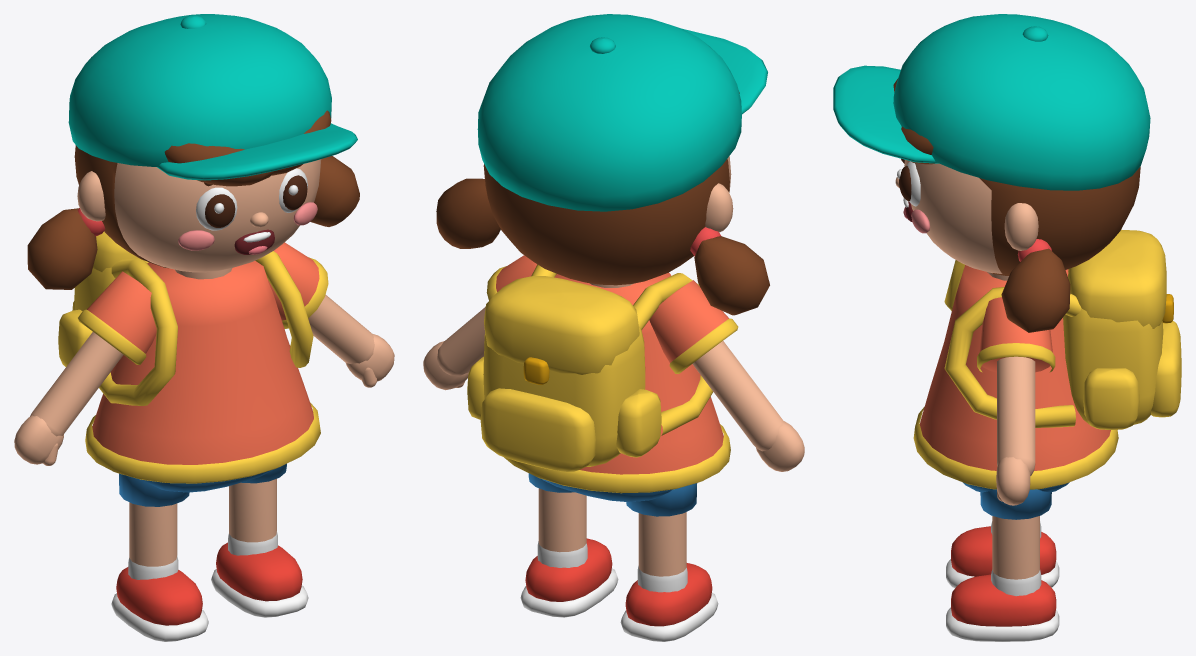
Rendered from explorer_kid.glb.
The picture shows the model from 3 angles, left to right: view 1: azimuth 30°, elevation 25°; view 2: azimuth 150°, elevation 25°; view 3: azimuth 270°, elevation 25°; orthographic projection.
Parts seen in each view (by area): view 1: Cap, Tunic, Head, Hair, Backpack, Shoe_R, Shoe_L, Arm_R, Sleeve_R, Arm_L, Leg_R, Leg_L (+2 smaller); view 2: Cap, Backpack, Hair, Tunic, Arm_R, Shoe_L, Shoe_R, Sleeve_R, Arm_L, Leg_R, Leg_L, Shorts (+2 smaller); view 3: Cap, Backpack, Tunic, Hair, Head, Shoe_L, Arm_L, Sleeve_L, Shoe_R, Leg_L, Shorts.
Part boxes in pixels (box(x1,y1,x2,y2)): Cap: box(68, 14, 357, 180); Tunic: box(85, 261, 320, 483); Head: box(77, 159, 321, 279); Hair: box(27, 110, 359, 289); Backpack: box(58, 231, 313, 405); Shoe_R: box(111, 556, 208, 641); Shoe_L: box(211, 531, 308, 617); Arm_R: box(14, 332, 123, 465); Sleeve_R: box(78, 271, 156, 364); Arm_L: box(308, 294, 394, 387); Leg_R: box(129, 502, 177, 566); Leg_L: box(229, 478, 276, 542); Cap: box(477, 14, 767, 211); Backpack: box(467, 264, 712, 471); Hair: box(436, 92, 769, 315); Tunic: box(504, 272, 730, 493); Arm_R: box(692, 341, 804, 471); Shoe_L: box(520, 538, 618, 617); Shoe_R: box(620, 563, 718, 641); Sleeve_R: box(649, 280, 738, 373); Arm_L: box(423, 307, 485, 390); Leg_R: box(638, 512, 686, 576); Leg_L: box(538, 488, 586, 552); Shorts: box(528, 473, 697, 516); Cap: box(833, 14, 1150, 190); Backpack: box(944, 229, 1181, 429); Tunic: box(913, 265, 1118, 489); Hair: box(893, 79, 1140, 332); Head: box(895, 158, 1038, 280); Shoe_L: box(946, 570, 1059, 641); Arm_L: box(996, 356, 1035, 505); Sleeve_L: box(977, 297, 1055, 372); Shoe_R: box(946, 521, 1059, 587); Leg_L: box(992, 516, 1039, 579); Shorts: box(963, 482, 1069, 519).
Size of the model in its own units: 0.7911 by 1.17 by 0.6397.
